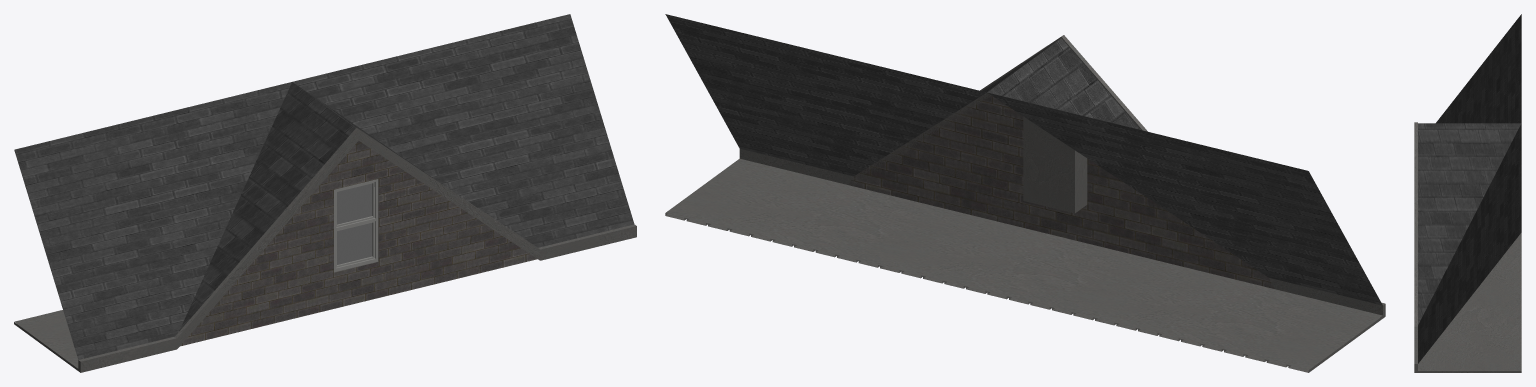
The model's file is Sm_Roof01e02.fbx.
3 views of the same model, side by side, from view 1: azimuth 30°, elevation 25°; view 2: azimuth 150°, elevation 25°; view 3: azimuth 270°, elevation 25° (orthographic). The views are drawn at different scales.
Parts seen in each view (by area): view 1: Sm_Roof01e02; view 2: Sm_Roof01e02; view 3: Sm_Roof01e02.
Boxes of the visible parts, x1,y1,x2,y2 form: Sm_Roof01e02: (14,14,636,372); Sm_Roof01e02: (665,14,1385,372); Sm_Roof01e02: (1414,14,1521,372).
Bounding box in the file's own units: 500 × 104 × 151.
Materials: 5 (5 with a texture image).
